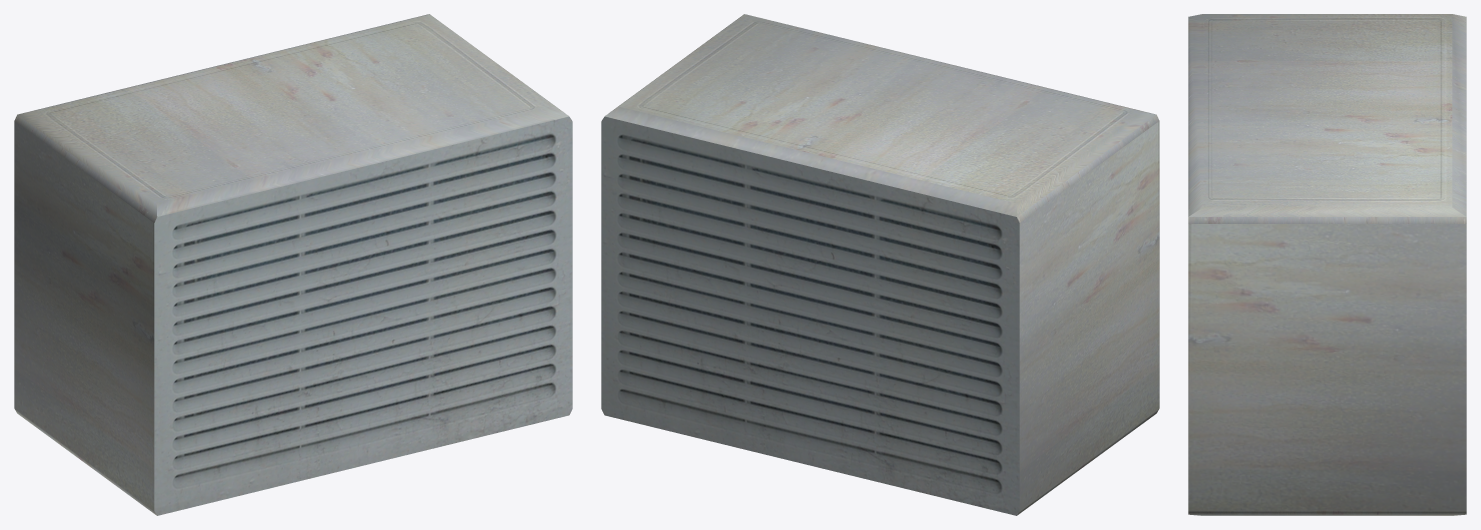
The model's file is AirCon004.fbx.
The picture shows the model from 3 angles, left to right: view 1: azimuth 30°, elevation 25°; view 2: azimuth 150°, elevation 25°; view 3: azimuth 270°, elevation 25°; orthographic projection.
Visible parts, largest first — view 1: Air004; view 2: Air004; view 3: Air004.
Boxes of the visible parts, x1,y1,x2,y2 form: Air004: (14, 14, 572, 515); Air004: (601, 14, 1159, 515); Air004: (1188, 14, 1466, 515).
Bounding box in the file's own units: 140 × 99.49 × 81.43.
